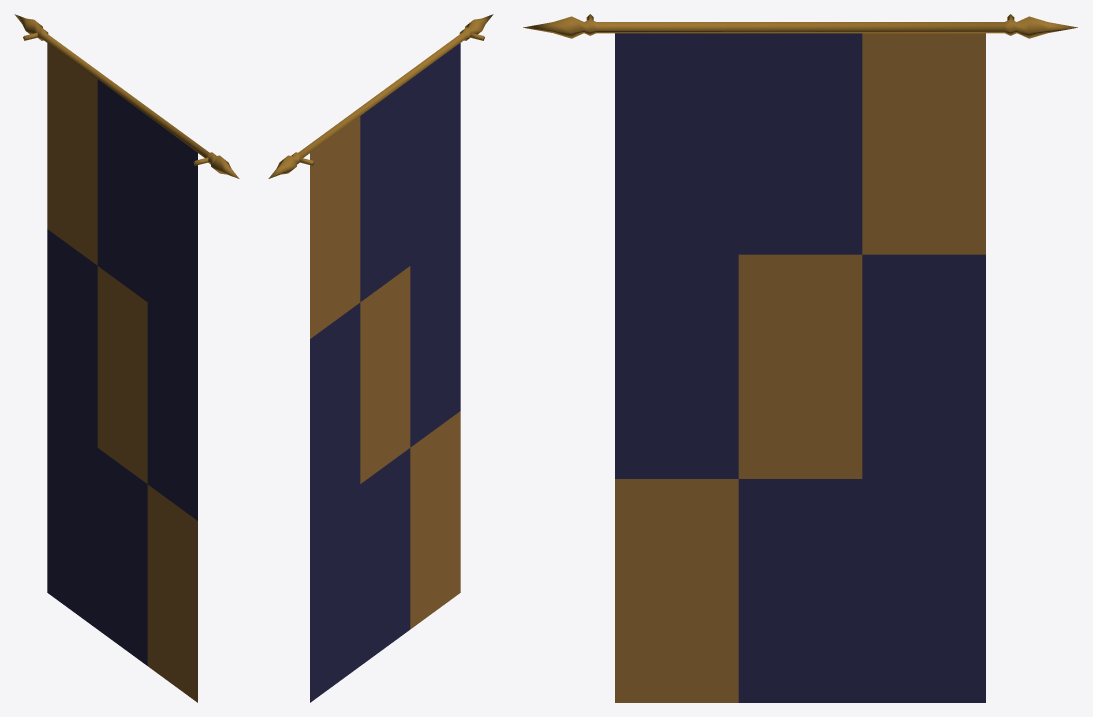
File: grandfather_flag.fbx
3 views of the same model, side by side, from view 1: azimuth 30°, elevation 25°; view 2: azimuth 150°, elevation 25°; view 3: azimuth 270°, elevation 25° (orthographic). The views are drawn at different scales.
Parts seen in each view (by area): view 1: Plane, Cube; view 2: Plane, Cube; view 3: Plane, Cube.
Boxes of the visible parts, bbox=[...] form: Plane: bbox=[47, 43, 197, 702]; Cube: bbox=[14, 14, 239, 178]; Plane: bbox=[310, 43, 460, 702]; Cube: bbox=[268, 14, 493, 178]; Plane: bbox=[615, 33, 985, 702]; Cube: bbox=[523, 14, 1077, 38].
Bounding box in the file's own units: 60 × 1230 × 900.
